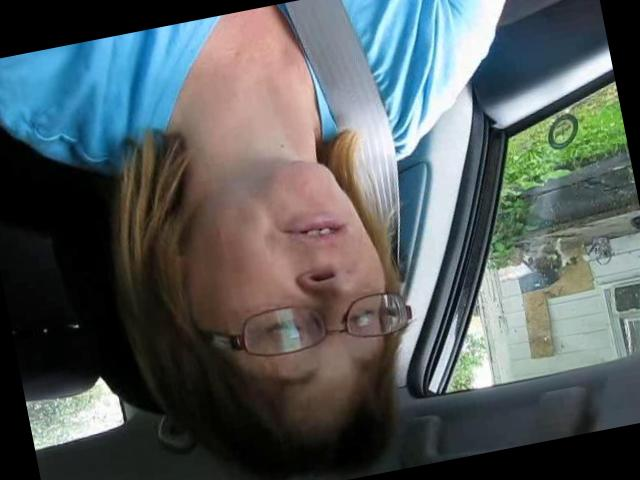eye_closed: (245, 303, 324, 358), (346, 296, 389, 332)
face: (186, 143, 408, 403)
